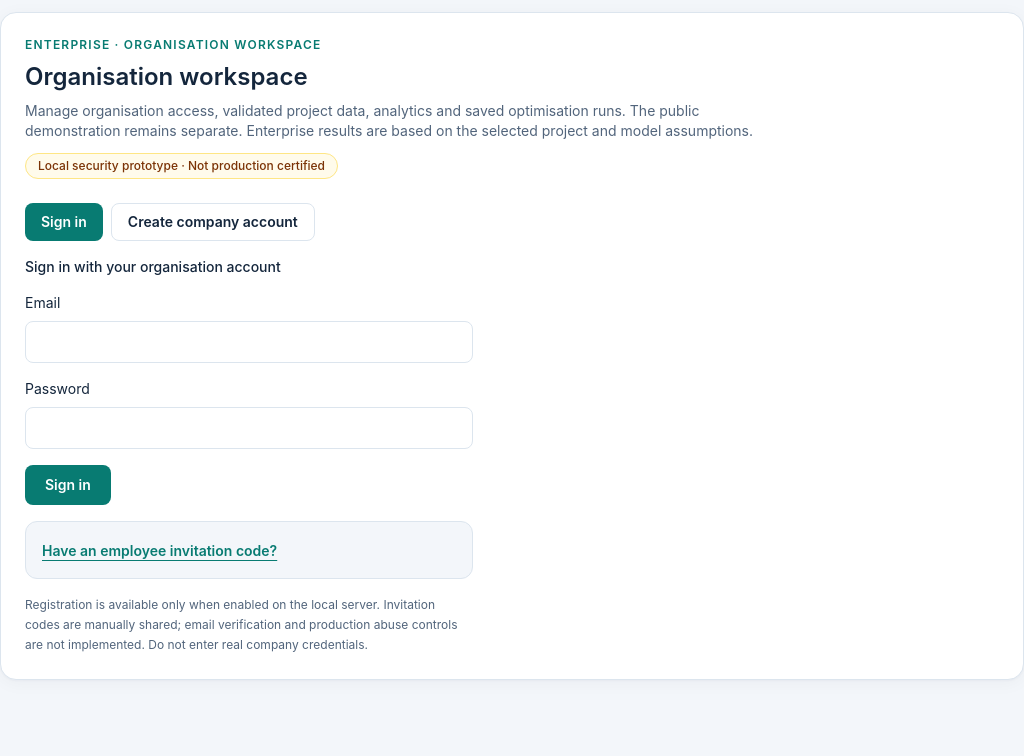
Test case: offers invitation acceptance to a new employee without requiring public company signup
Step 1. Click the button "Have an employee invitation code?" → (160, 551), box x1=42 y1=541 x2=277 y2=561
(page scrolled)
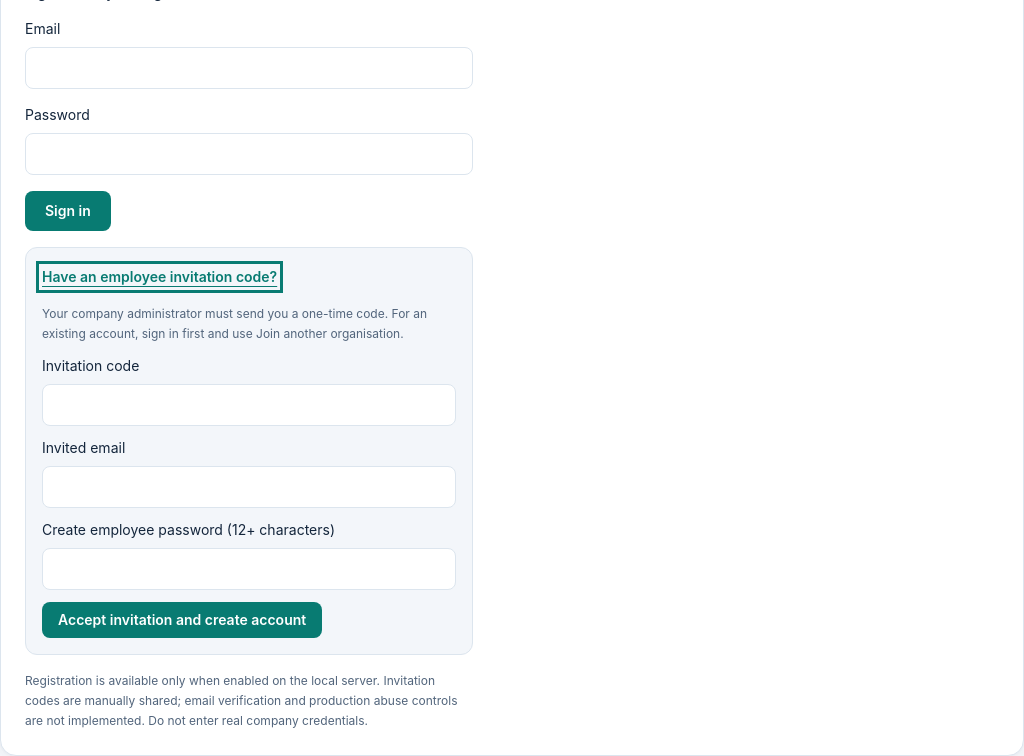
Now the field labelled "Invitation code" is shown, box x1=42 y1=384 x2=456 y2=426
Now the field labelled "Invited email" is shown, box x1=42 y1=466 x2=456 y2=508
Now the password field labelled "Create employee password (12+ characters)" is shown, box x1=42 y1=548 x2=456 y2=590
